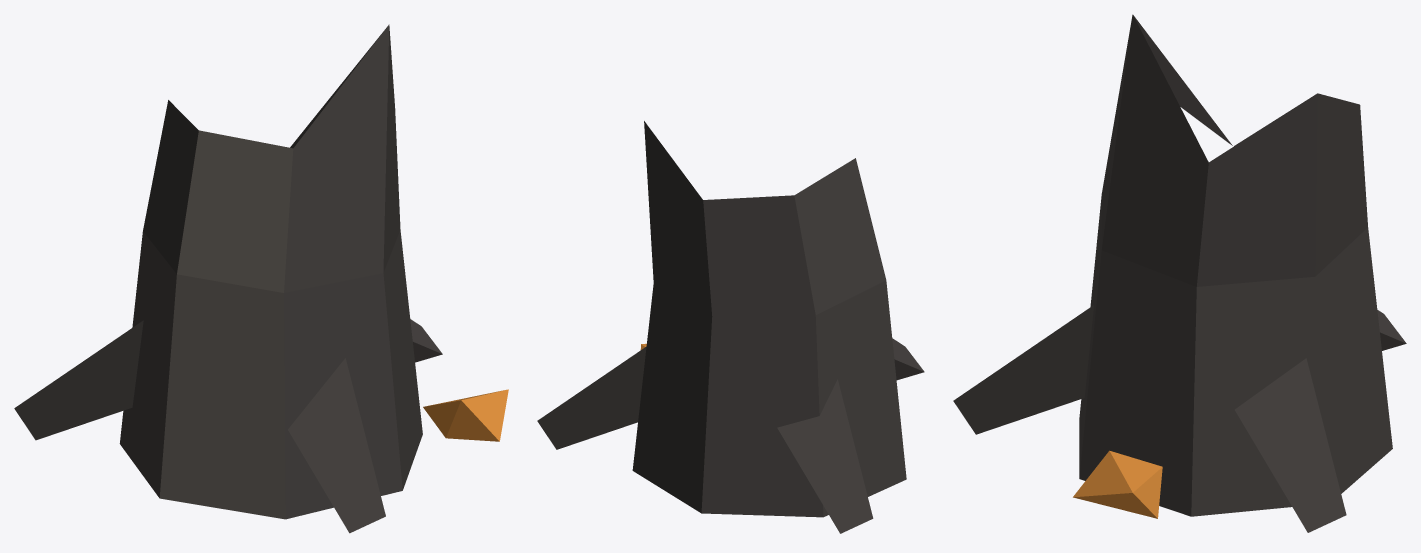
Rendered from prop_lava_stump_0.glb.
The picture shows the model from 3 angles, left to right: view 1: azimuth 30°, elevation 25°; view 2: azimuth 150°, elevation 25°; view 3: azimuth 270°, elevation 25°; orthographic projection. The views are drawn at different scales.
Visible parts, largest first — view 1: Body; view 2: Body; view 3: Body.
Part boxes in pixels (left/top/right/bottom): Body: left=14, top=24, right=508, bottom=533; Body: left=537, top=121, right=924, bottom=533; Body: left=953, top=14, right=1406, bottom=532.
Size of the model in its own units: 0.5819 by 0.6304 by 0.5501.
